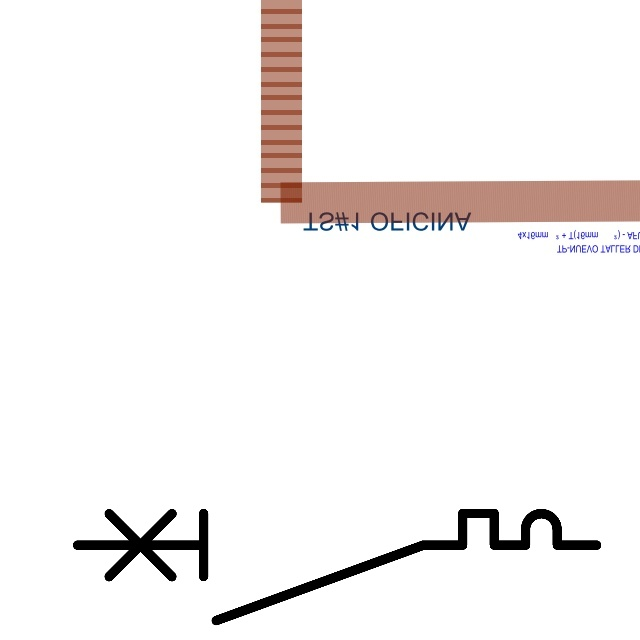interruptor_termomagnetico: (64, 500, 610, 633)
